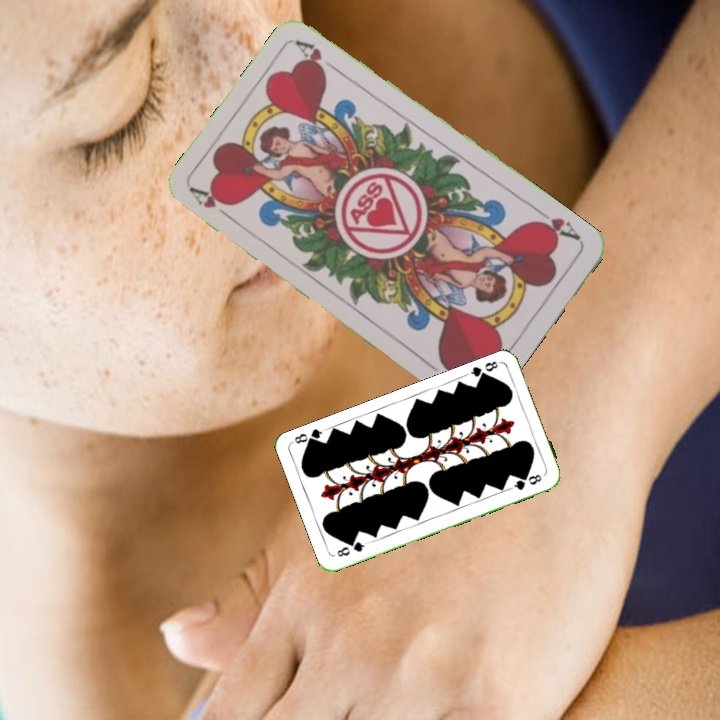G8: (464, 357, 503, 383), (333, 537, 370, 559)
HA: (527, 204, 584, 245), (187, 183, 238, 225)
